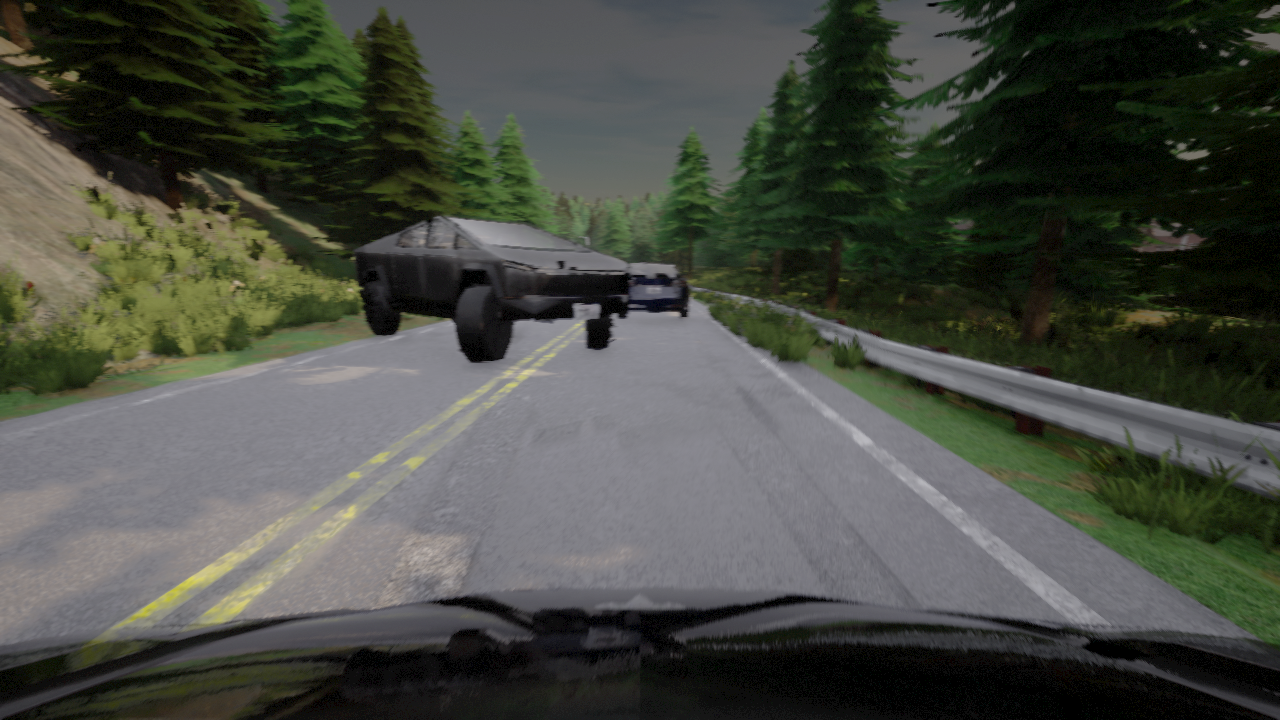cyclist: (0, 588, 1279, 719), (354, 215, 630, 362), (617, 264, 689, 318)
